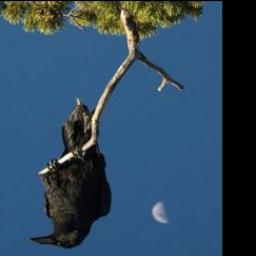Crow: (27, 95, 113, 250)
